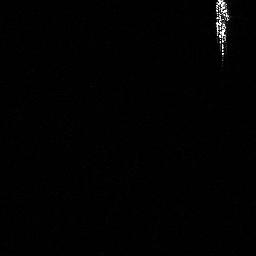ship: (212, 1, 233, 62)
